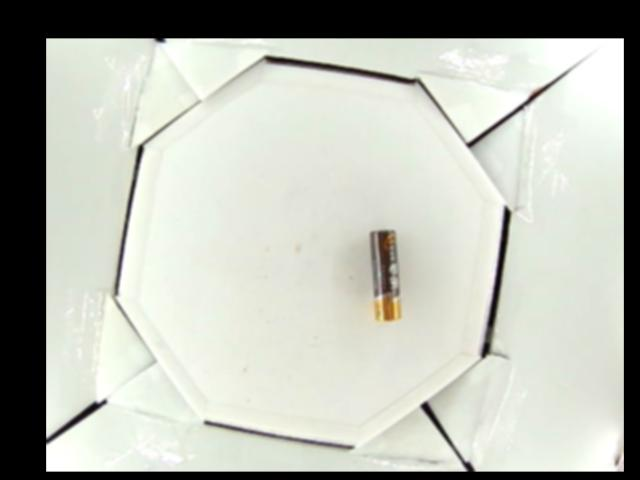Battery: (370, 229, 400, 321)
